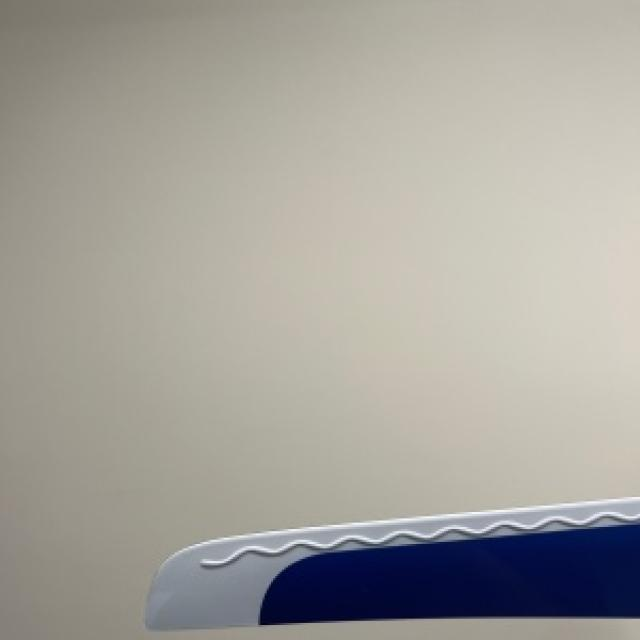healthy: (147, 497, 638, 627)
